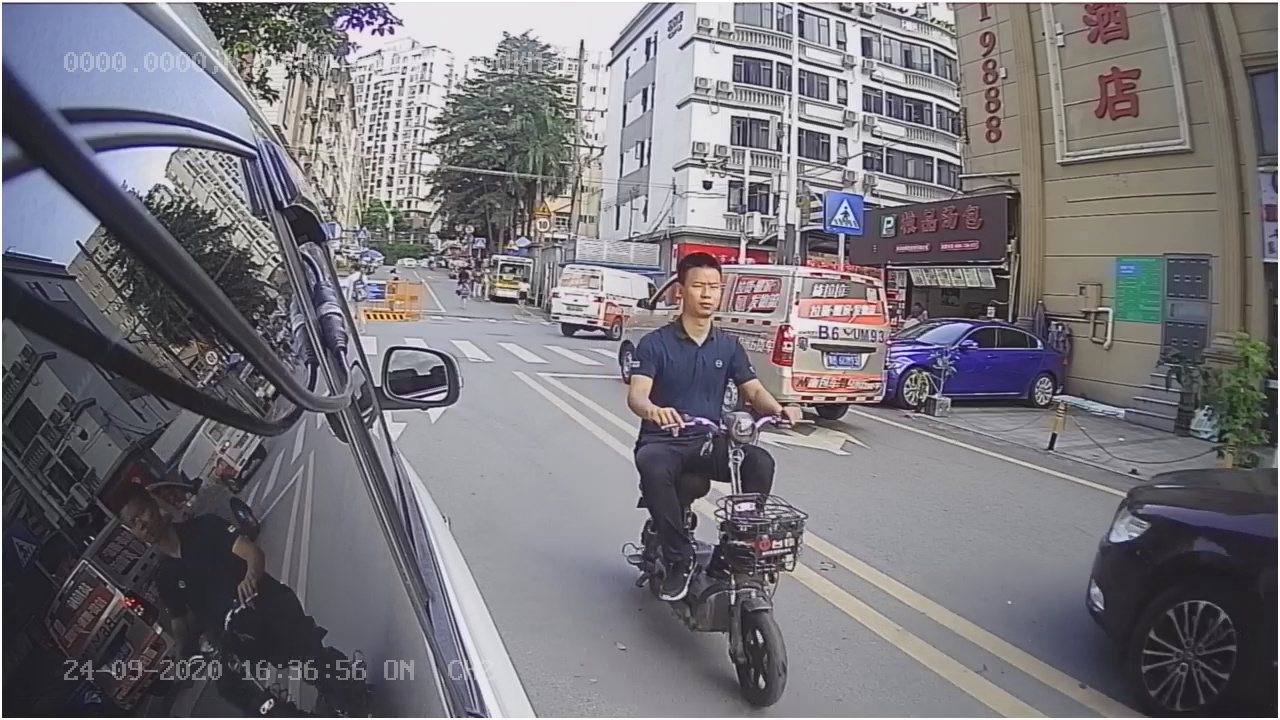person: (588, 249, 818, 704)
